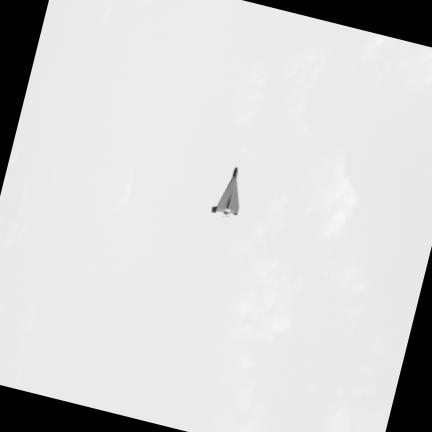Shahed: (211, 168, 238, 216)
